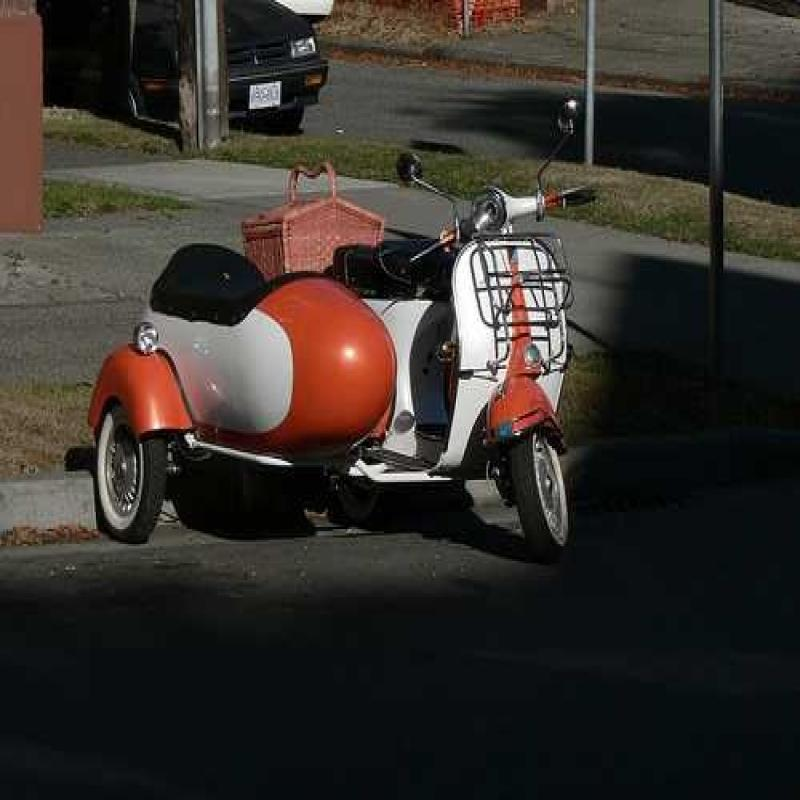bike: (354, 100, 602, 559)
